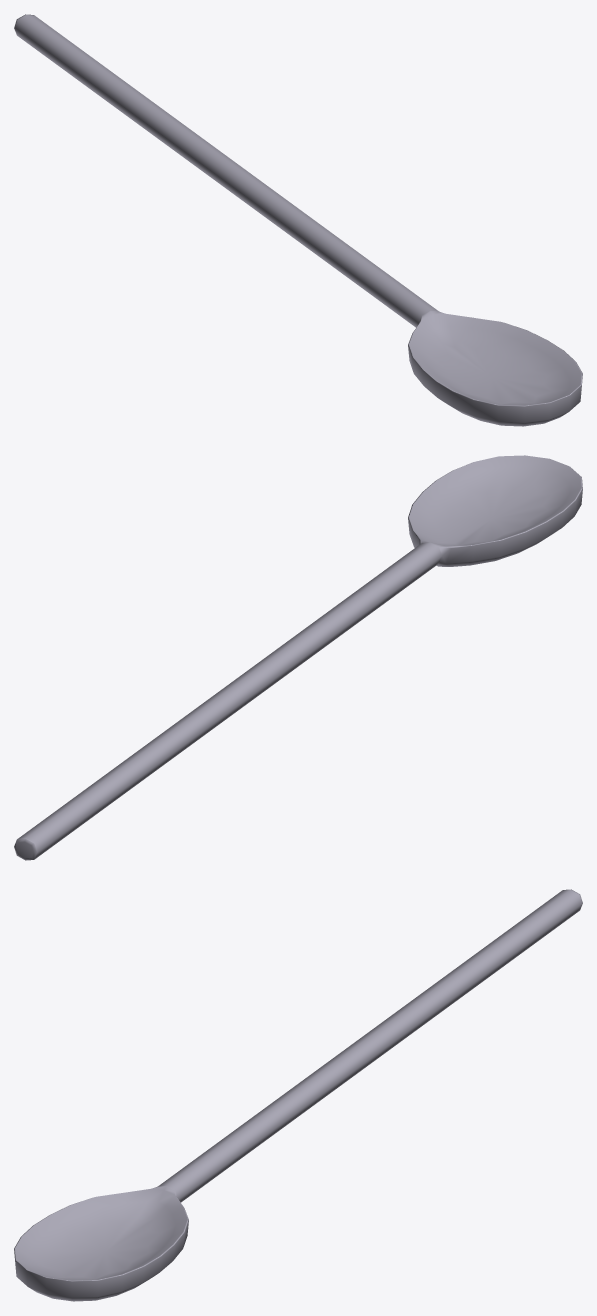
File: Spoon_01_M.fbx
3 renders of one model, top to bottom at view 1: azimuth 30°, elevation 25°; view 2: azimuth 150°, elevation 25°; view 3: azimuth 330°, elevation 25°, orthographic.
Visible parts, largest first — view 1: Spoon_01; view 2: Spoon_01; view 3: Spoon_01.
Boxes of the visible parts, bbox=[...] form: Spoon_01: bbox=[14, 14, 582, 426]; Spoon_01: bbox=[14, 455, 582, 860]; Spoon_01: bbox=[14, 889, 582, 1301].
Size of the model in its own units: 29.47 by 8.5 by 209.
Materials: 1 (1 with a texture image).
